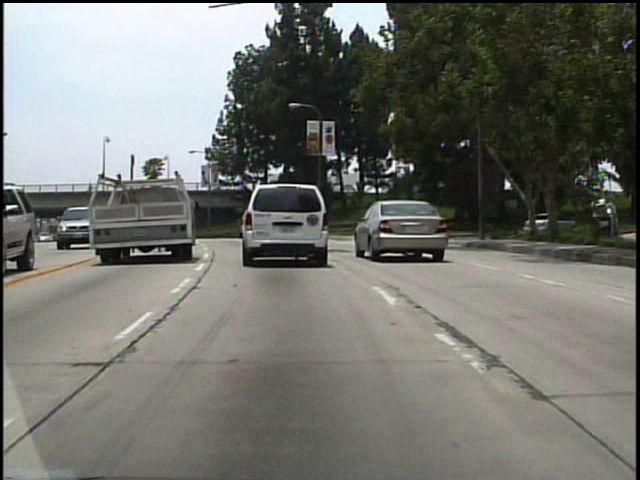person: (84, 177, 95, 197)
